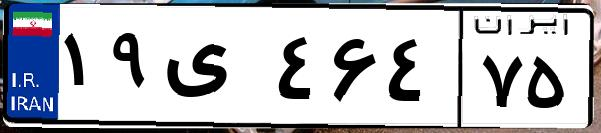1: (57, 26, 110, 100)
4: (270, 28, 330, 110), (385, 28, 445, 110)
5: (525, 38, 570, 115)
6: (330, 28, 385, 110)
7: (475, 38, 525, 113)
9: (110, 28, 158, 98)
ی: (158, 20, 270, 120)
